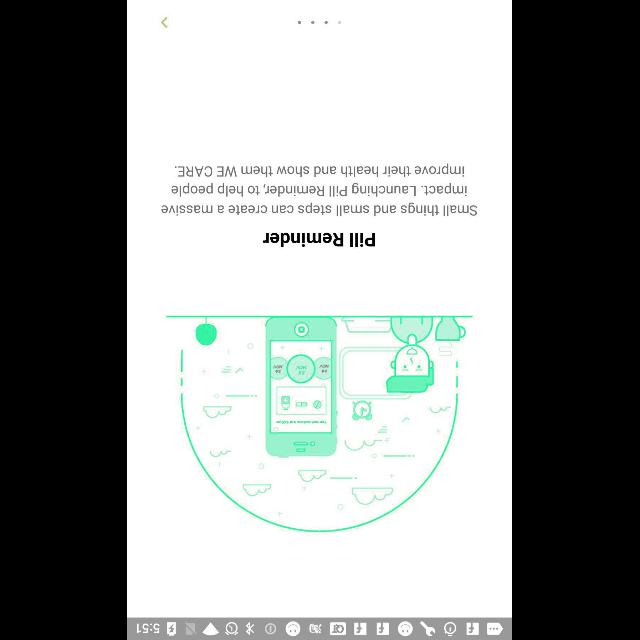icon: (162, 16, 168, 28)
image: (167, 316, 475, 532)
pageindicator: (300, 20, 342, 24)
text: (162, 164, 478, 216), (264, 232, 376, 248)
uppertaskbar: (128, 617, 512, 639)
